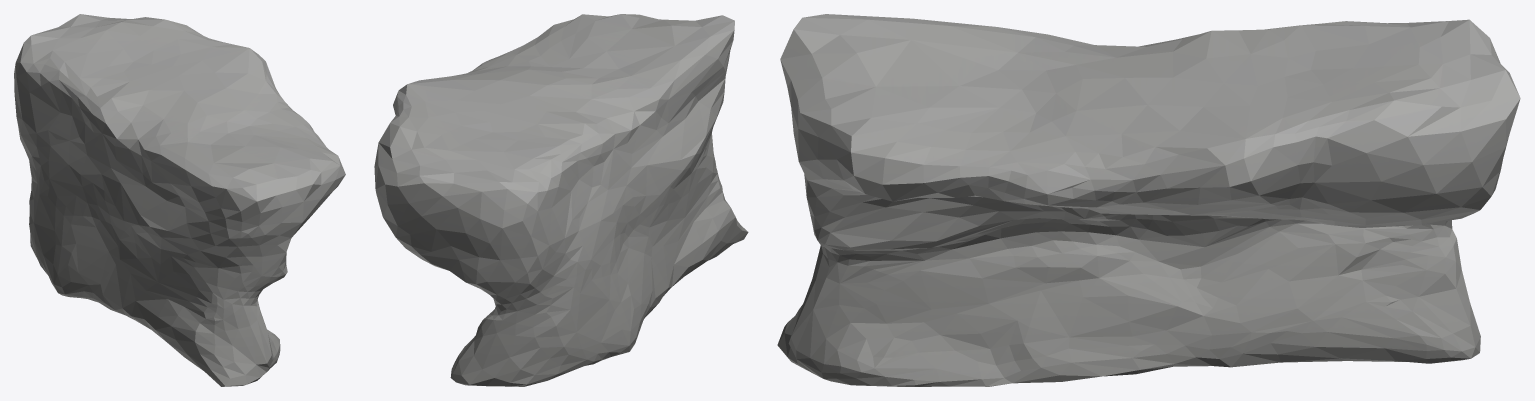
Rendered from Cavern_Wall_Lrg-02.fbx.
3 views of the same model, side by side, from view 1: azimuth 30°, elevation 25°; view 2: azimuth 150°, elevation 25°; view 3: azimuth 270°, elevation 25° (orthographic). The views are drawn at different scales.
Visible parts, largest first — view 1: Cavern_Wall_Lrg-02; view 2: Cavern_Wall_Lrg-02; view 3: Cavern_Wall_Lrg-02.
Boxes of the visible parts, bbox=[...] form: Cavern_Wall_Lrg-02: bbox=[14, 14, 345, 386]; Cavern_Wall_Lrg-02: bbox=[374, 14, 748, 386]; Cavern_Wall_Lrg-02: bbox=[777, 14, 1520, 386].
Size of the model in its own units: 1681 by 1565 by 3138.
Materials: 1 (1 with a texture image).
